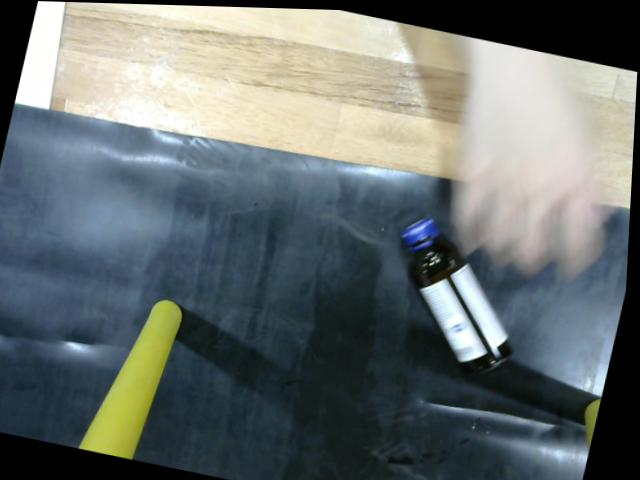glass: (392, 207, 529, 379)
